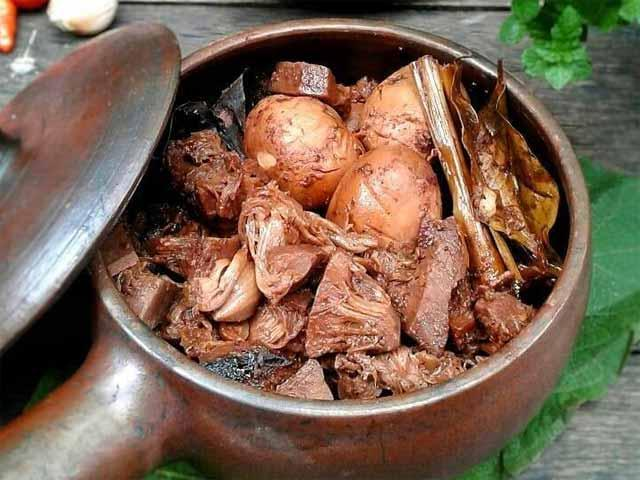gudeg: (142, 55, 558, 403)
